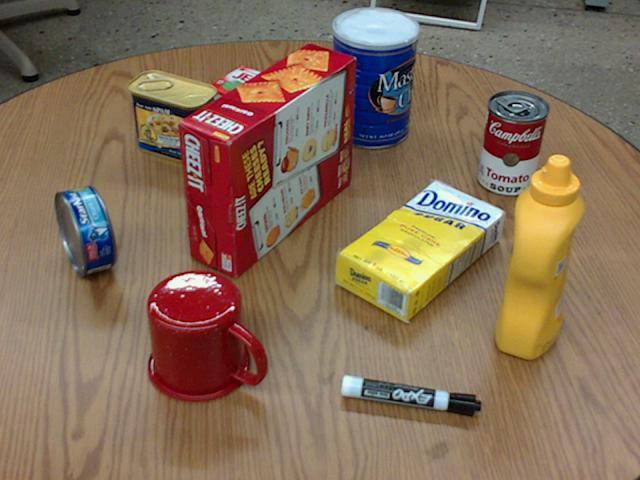cracker_box: (179, 42, 353, 277)
gelatin_box: (206, 64, 293, 119)
large_marker: (341, 375, 480, 415)
master_chef_can: (329, 7, 417, 147)
mug: (147, 269, 264, 401)
mustard_bottle: (496, 155, 584, 358)
potted_meat_can: (128, 69, 216, 162)
sugar_box: (335, 182, 504, 319)
tomato_soup_can: (478, 90, 549, 195)
tuna_fish_can: (55, 186, 117, 275)
